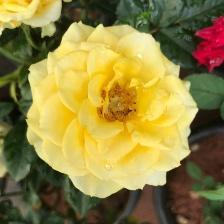rose: (32, 24, 199, 201)
